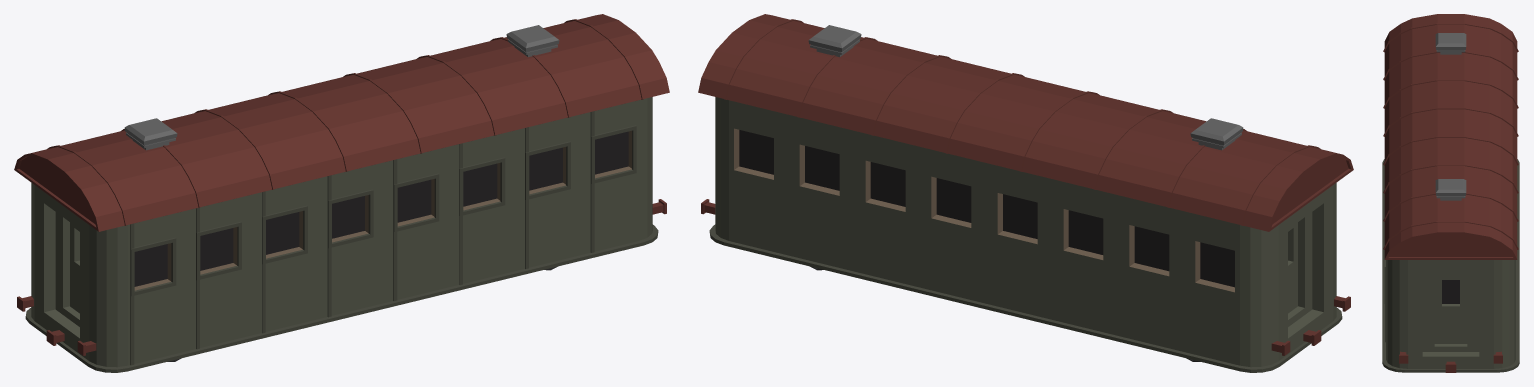
The model's file is locomotive_passenger_wagon.glb.
3 renders of one model, left to right at view 1: azimuth 30°, elevation 25°; view 2: azimuth 150°, elevation 25°; view 3: azimuth 270°, elevation 25°, orthographic. The views are drawn at different scales.
Visible parts, largest first — view 1: Locomotive_PassengerWagon_Cube.012; view 2: Locomotive_PassengerWagon_Cube.012; view 3: Locomotive_PassengerWagon_Cube.012.
Boxes of the visible parts, box(x1,y1,x2,y2) form: Locomotive_PassengerWagon_Cube.012: box(14, 14, 669, 372); Locomotive_PassengerWagon_Cube.012: box(698, 14, 1353, 372); Locomotive_PassengerWagon_Cube.012: box(1382, 14, 1519, 372).
Bounding box in the file's own units: 8.06 × 2.95 × 2.1.
